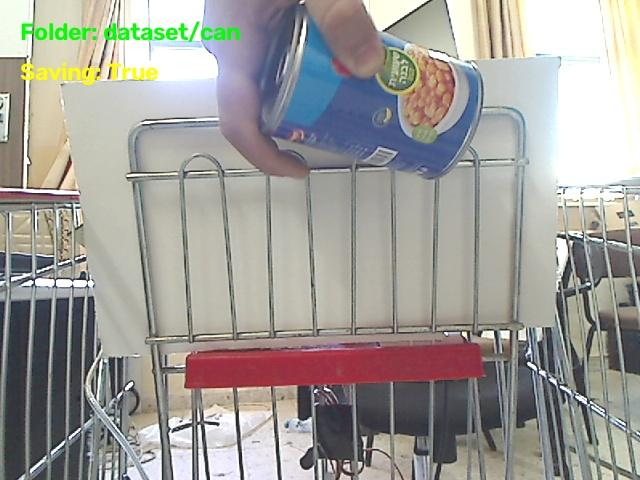can: (260, 5, 482, 177)
